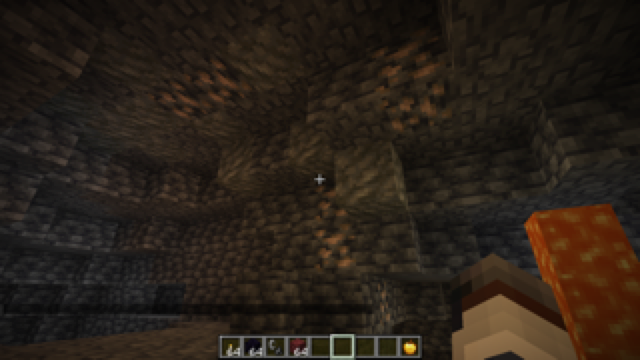iron: (311, 179, 395, 326), (371, 29, 455, 140), (146, 52, 253, 128)
